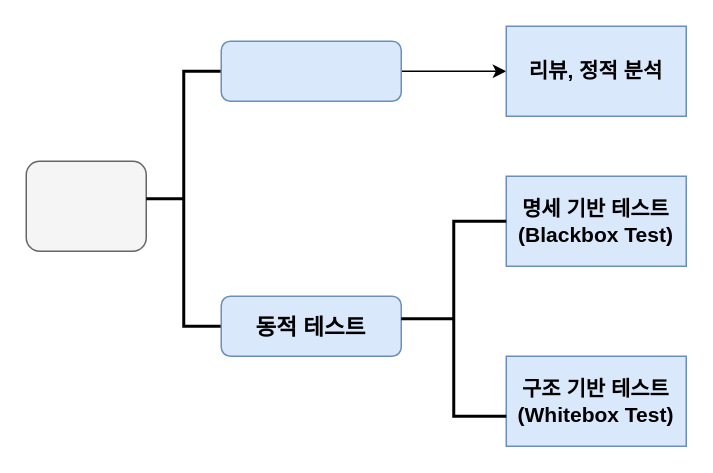
Some shapes in this 713 by 473 pixel diagram are drawn without their labels. The shapes that lost their labels are listed below. From the top down, each one's centre as x and y in pixels, then its label:
At (x=310, y=70): "정적 테스트".
At (x=85, y=205): "Test".
